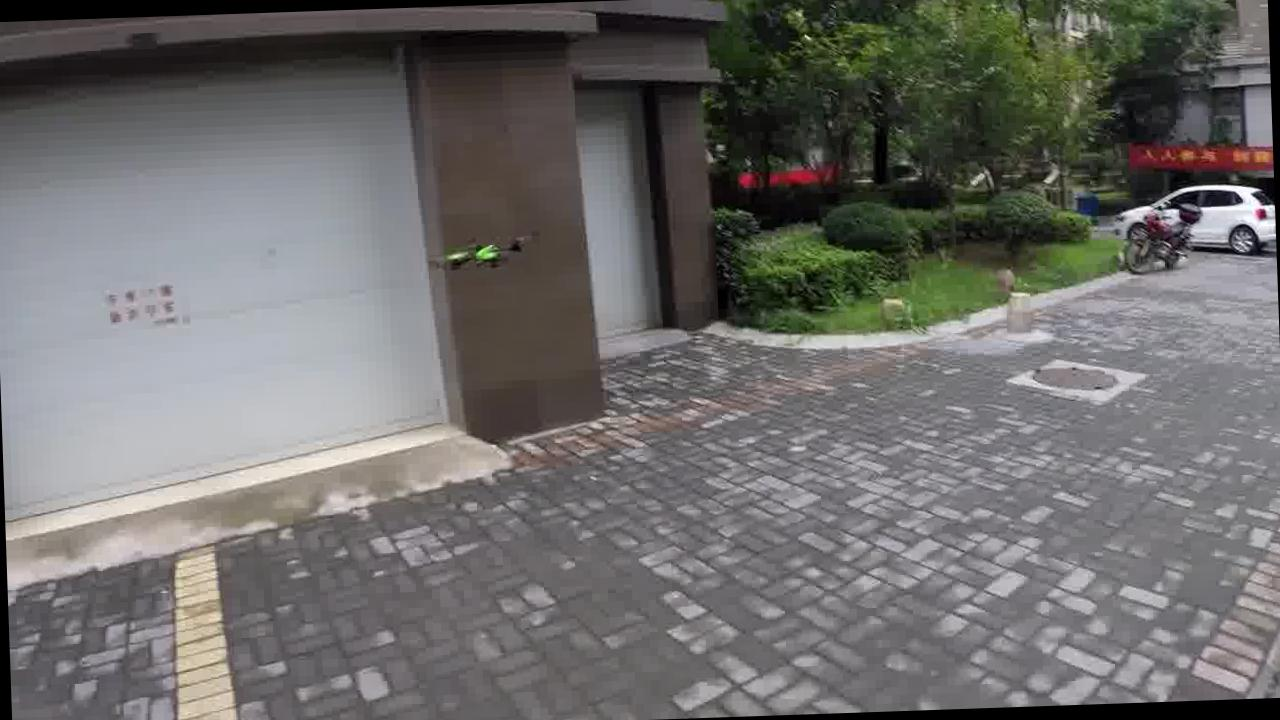drone: (411, 210, 558, 292)
